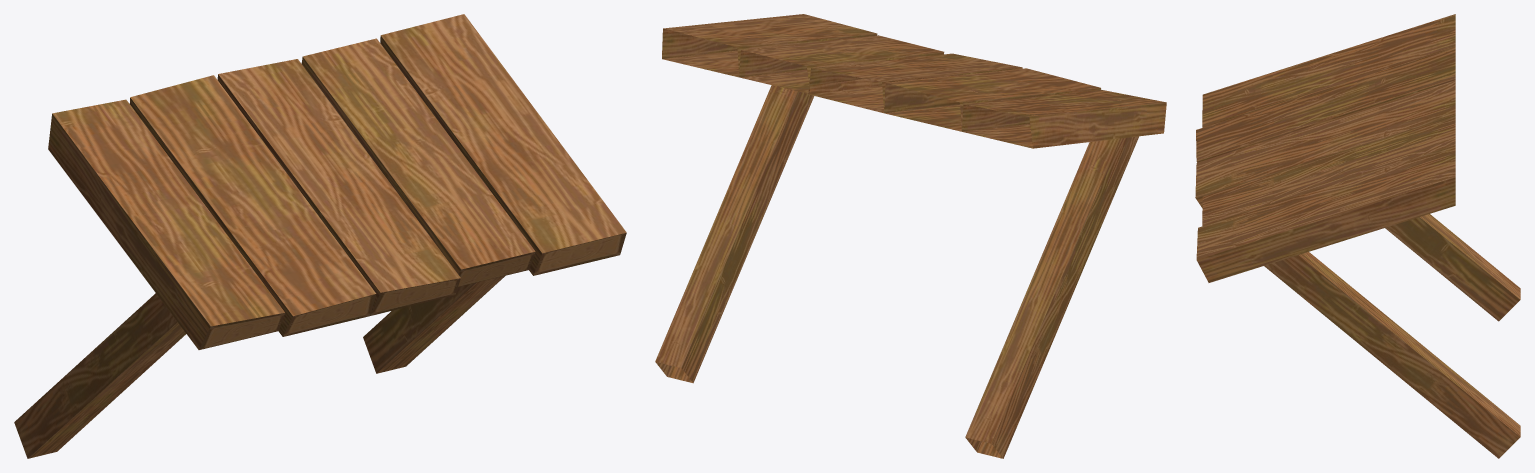
Rendered from Window_Roof_Wide.glb.
3 views of the same model, side by side, from view 1: azimuth 30°, elevation 25°; view 2: azimuth 150°, elevation 25°; view 3: azimuth 270°, elevation 25° (orthographic). The views are drawn at different scales.
Visible parts, largest first — view 1: Window_Roof_Wide; view 2: Window_Roof_Wide; view 3: Window_Roof_Wide.
Boxes of the visible parts, x1,y1,x2,y2 form: Window_Roof_Wide: [14, 14, 626, 458]; Window_Roof_Wide: [655, 14, 1166, 458]; Window_Roof_Wide: [1195, 14, 1520, 458].
Bounding box in the file's own units: 1.42 × 1.18 × 1.18.
Materials: 2 (2 with a texture image).
